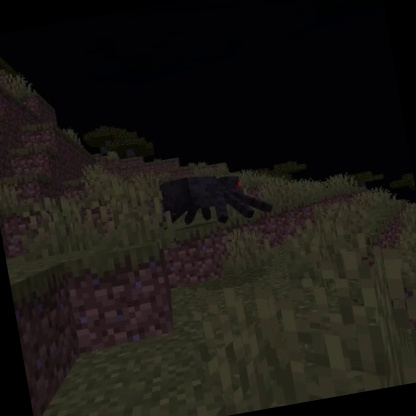spider: (154, 160, 278, 238)
